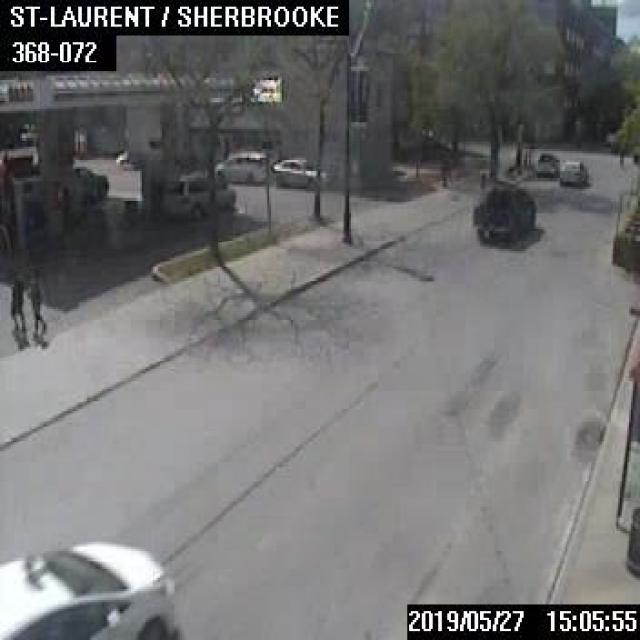pedestrian: (25, 275, 44, 335), (9, 275, 23, 329)
vehicle: (0, 540, 176, 638), (473, 184, 538, 244), (162, 170, 235, 219), (271, 155, 327, 189), (214, 149, 266, 183), (74, 165, 108, 198), (534, 151, 559, 176), (560, 159, 584, 184)
